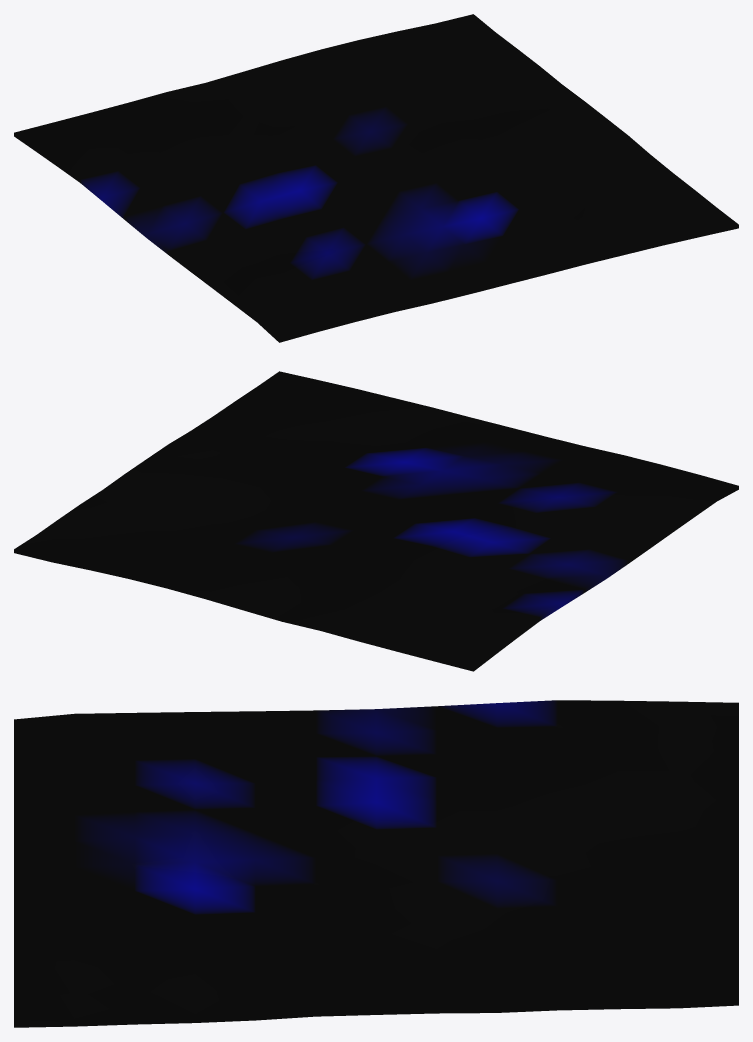
The model's file is coast_7_5.glb.
3 views of the same model, one above another, from view 1: azimuth 30°, elevation 25°; view 2: azimuth 150°, elevation 25°; view 3: azimuth 270°, elevation 25° (orthographic). The views are drawn at different scales.
Parts seen in each view (by area): view 1: terrain; view 2: terrain; view 3: terrain.
Part boxes in pixels (left/top/right/bottom): terrain: left=14, top=14, right=738, bottom=342; terrain: left=14, top=371, right=738, bottom=671; terrain: left=14, top=700, right=738, bottom=1027.
Bounding box in the file's own units: 192 × 9.75 × 192.
